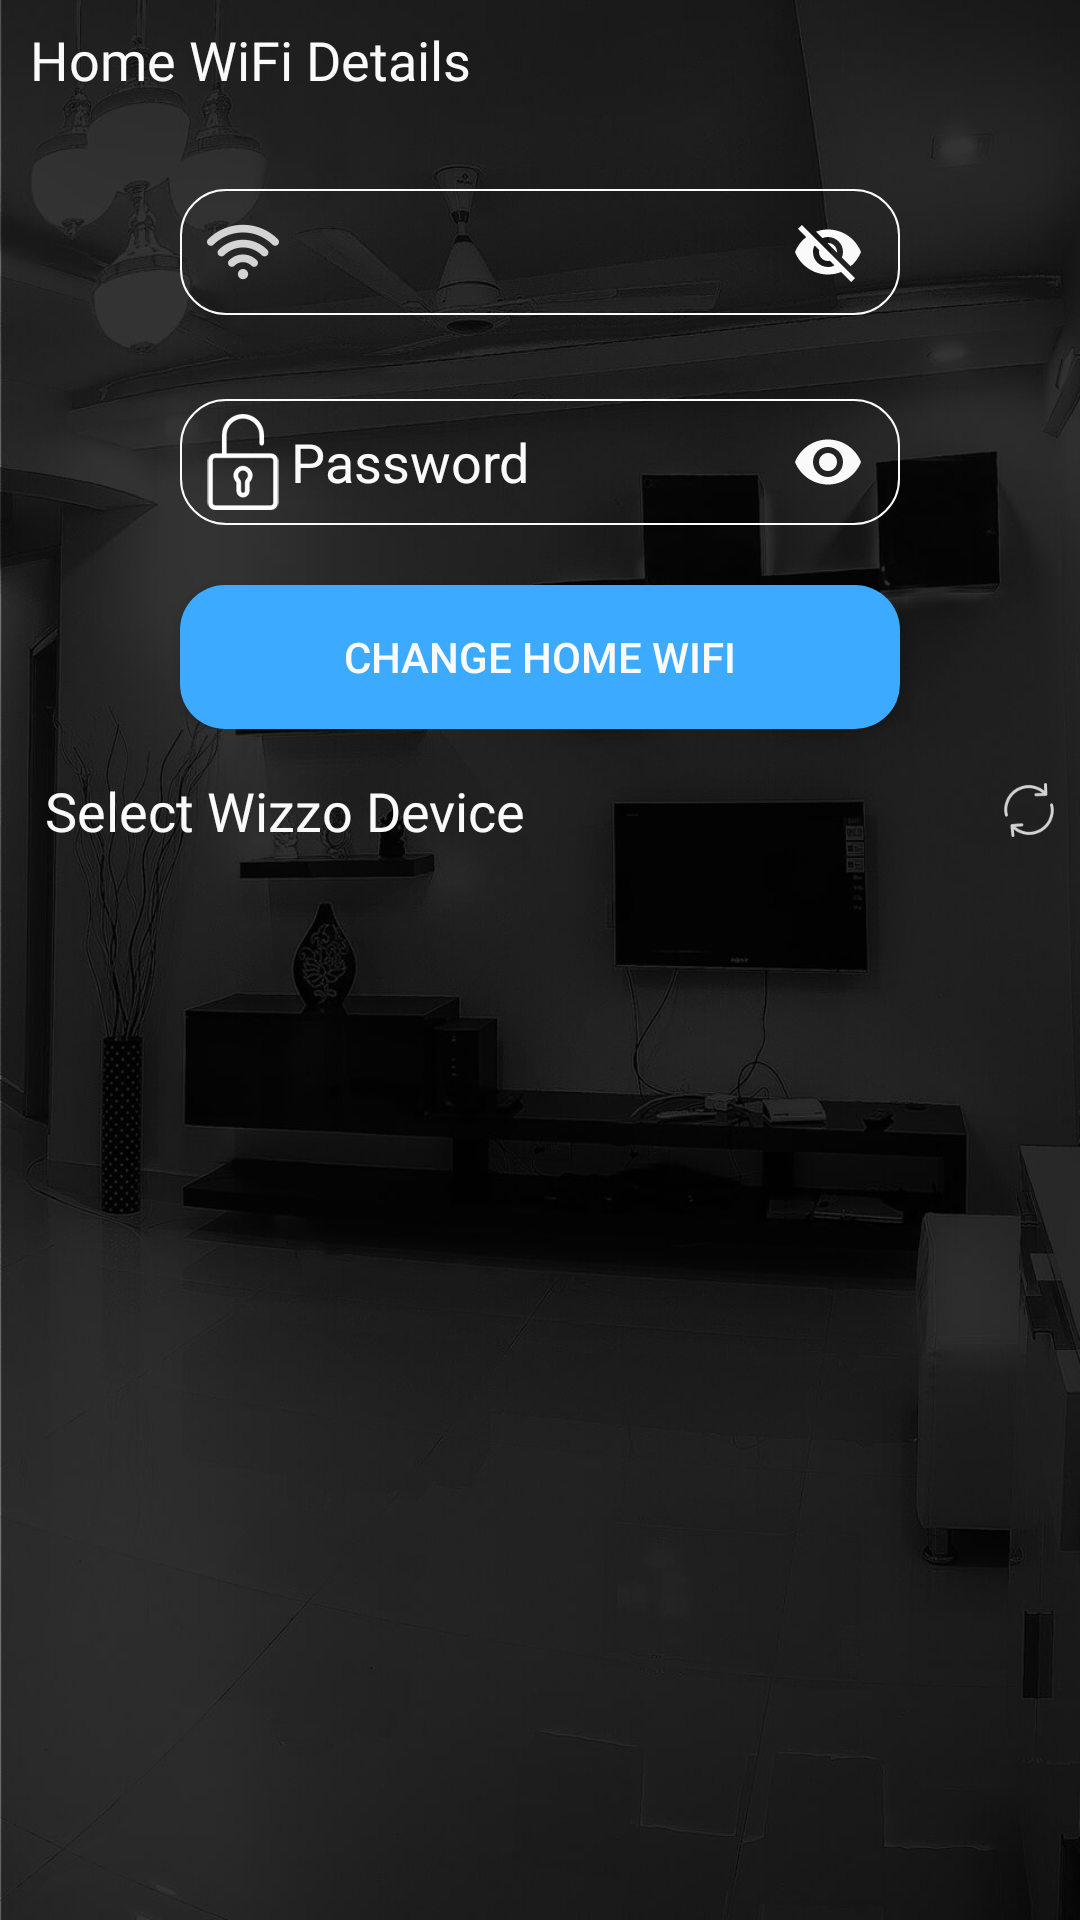

Icons on this 1080*1920 Android screen, each with the point to tap as (x,y):
refresh: (1029,810)
